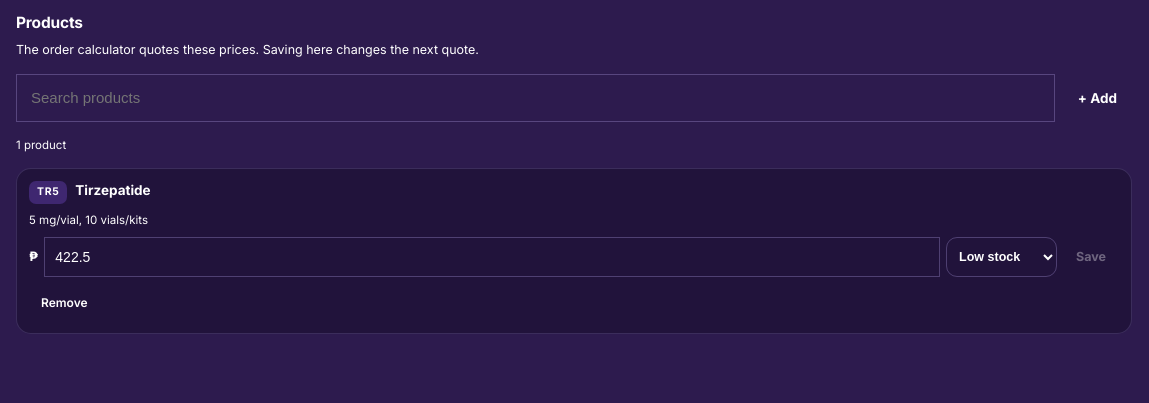
Test: ProductsCard — the stock switch › surfaces a refused stock change
Select "Out of stock" in the dropdown named "Stock for TR5": point(1002, 257) [946,237,1057,277]
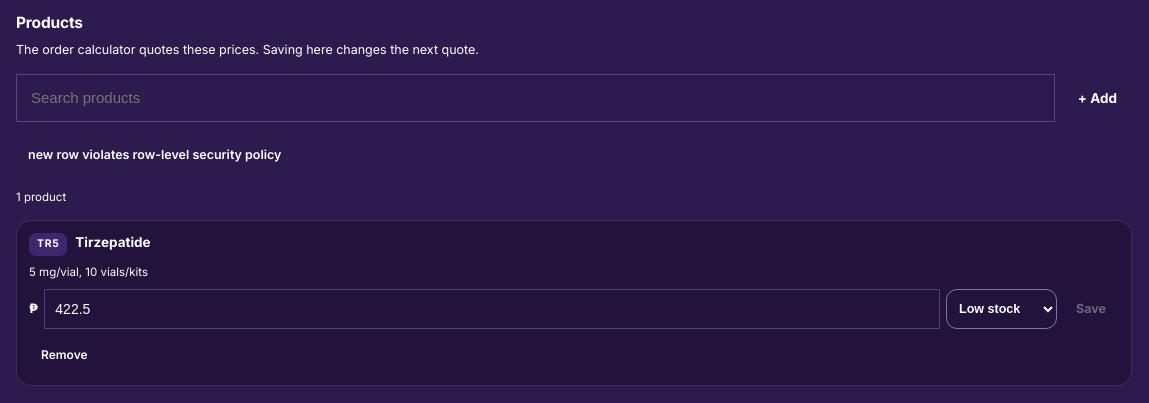
Expected: the message shows "row-level security", [28,147,281,162]
